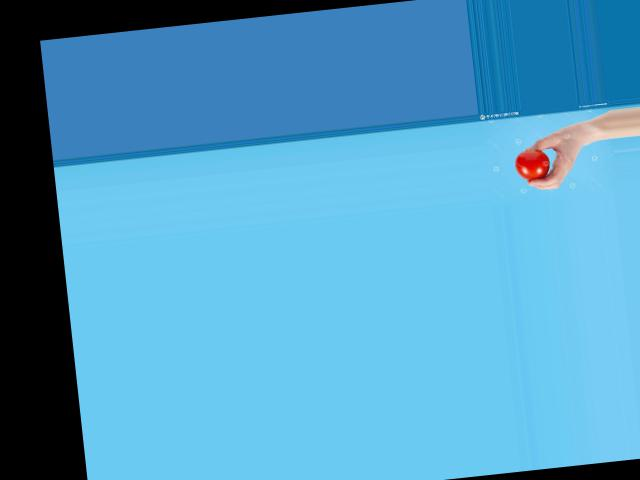tomato: (514, 148, 551, 181)
